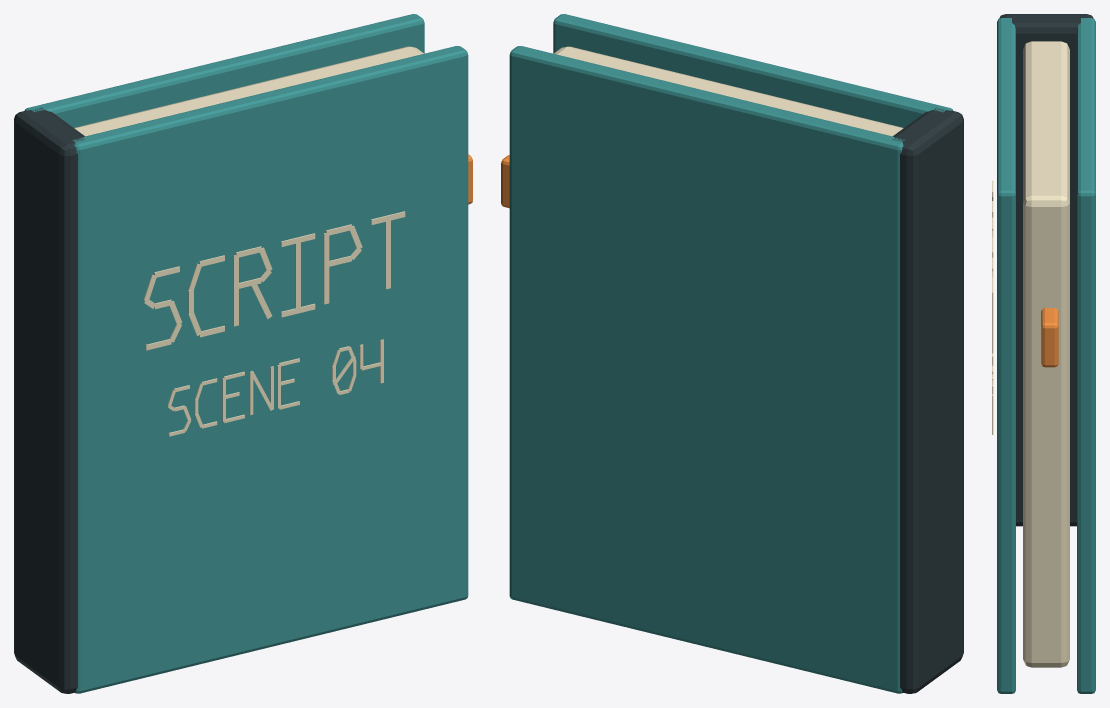
File: P071_script_binder.glb
3 views of the same model, side by side, from view 1: azimuth 30°, elevation 25°; view 2: azimuth 150°, elevation 25°; view 3: azimuth 270°, elevation 25° (orthographic). The views are drawn at different scales.
Parts seen in each view (by area): view 1: P071_cover_002, P071_spine_004, P071_cover_003, P071_title_005, P071_pages_001, P071_subtitle_006; view 2: P071_cover_003, P071_spine_004, P071_cover_002, P071_pages_001; view 3: P071_pages_001, P071_cover_003, P071_cover_002, P071_spine_004, P071_tab_007, P071_title_005.
Part boxes in pixels (x1,y1,x2,y2): P071_cover_002: (72, 46, 468, 693); P071_spine_004: (14, 107, 84, 693); P071_cover_003: (24, 14, 424, 127); P071_title_005: (143, 211, 405, 350); P071_pages_001: (74, 46, 423, 136); P071_subtitle_006: (167, 339, 383, 436); P071_cover_003: (509, 46, 905, 693); P071_spine_004: (892, 107, 963, 693); P071_cover_002: (553, 14, 953, 127); P071_pages_001: (554, 46, 903, 136); P071_pages_001: (1023, 41, 1069, 667); P071_cover_003: (1077, 18, 1095, 693); P071_cover_002: (997, 18, 1015, 693); P071_spine_004: (999, 14, 1093, 526); P071_tab_007: (1041, 308, 1058, 367); P071_title_005: (992, 180, 993, 353).
Size of the model in its own units: 0.265 by 0.32 by 0.0598.
